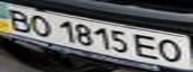1: (51, 17, 78, 43), (90, 25, 112, 51)
5: (109, 27, 133, 55)
8: (72, 20, 93, 47)
B: (0, 6, 36, 33)
E: (133, 33, 163, 61)
O: (154, 37, 190, 64), (24, 11, 57, 38)
